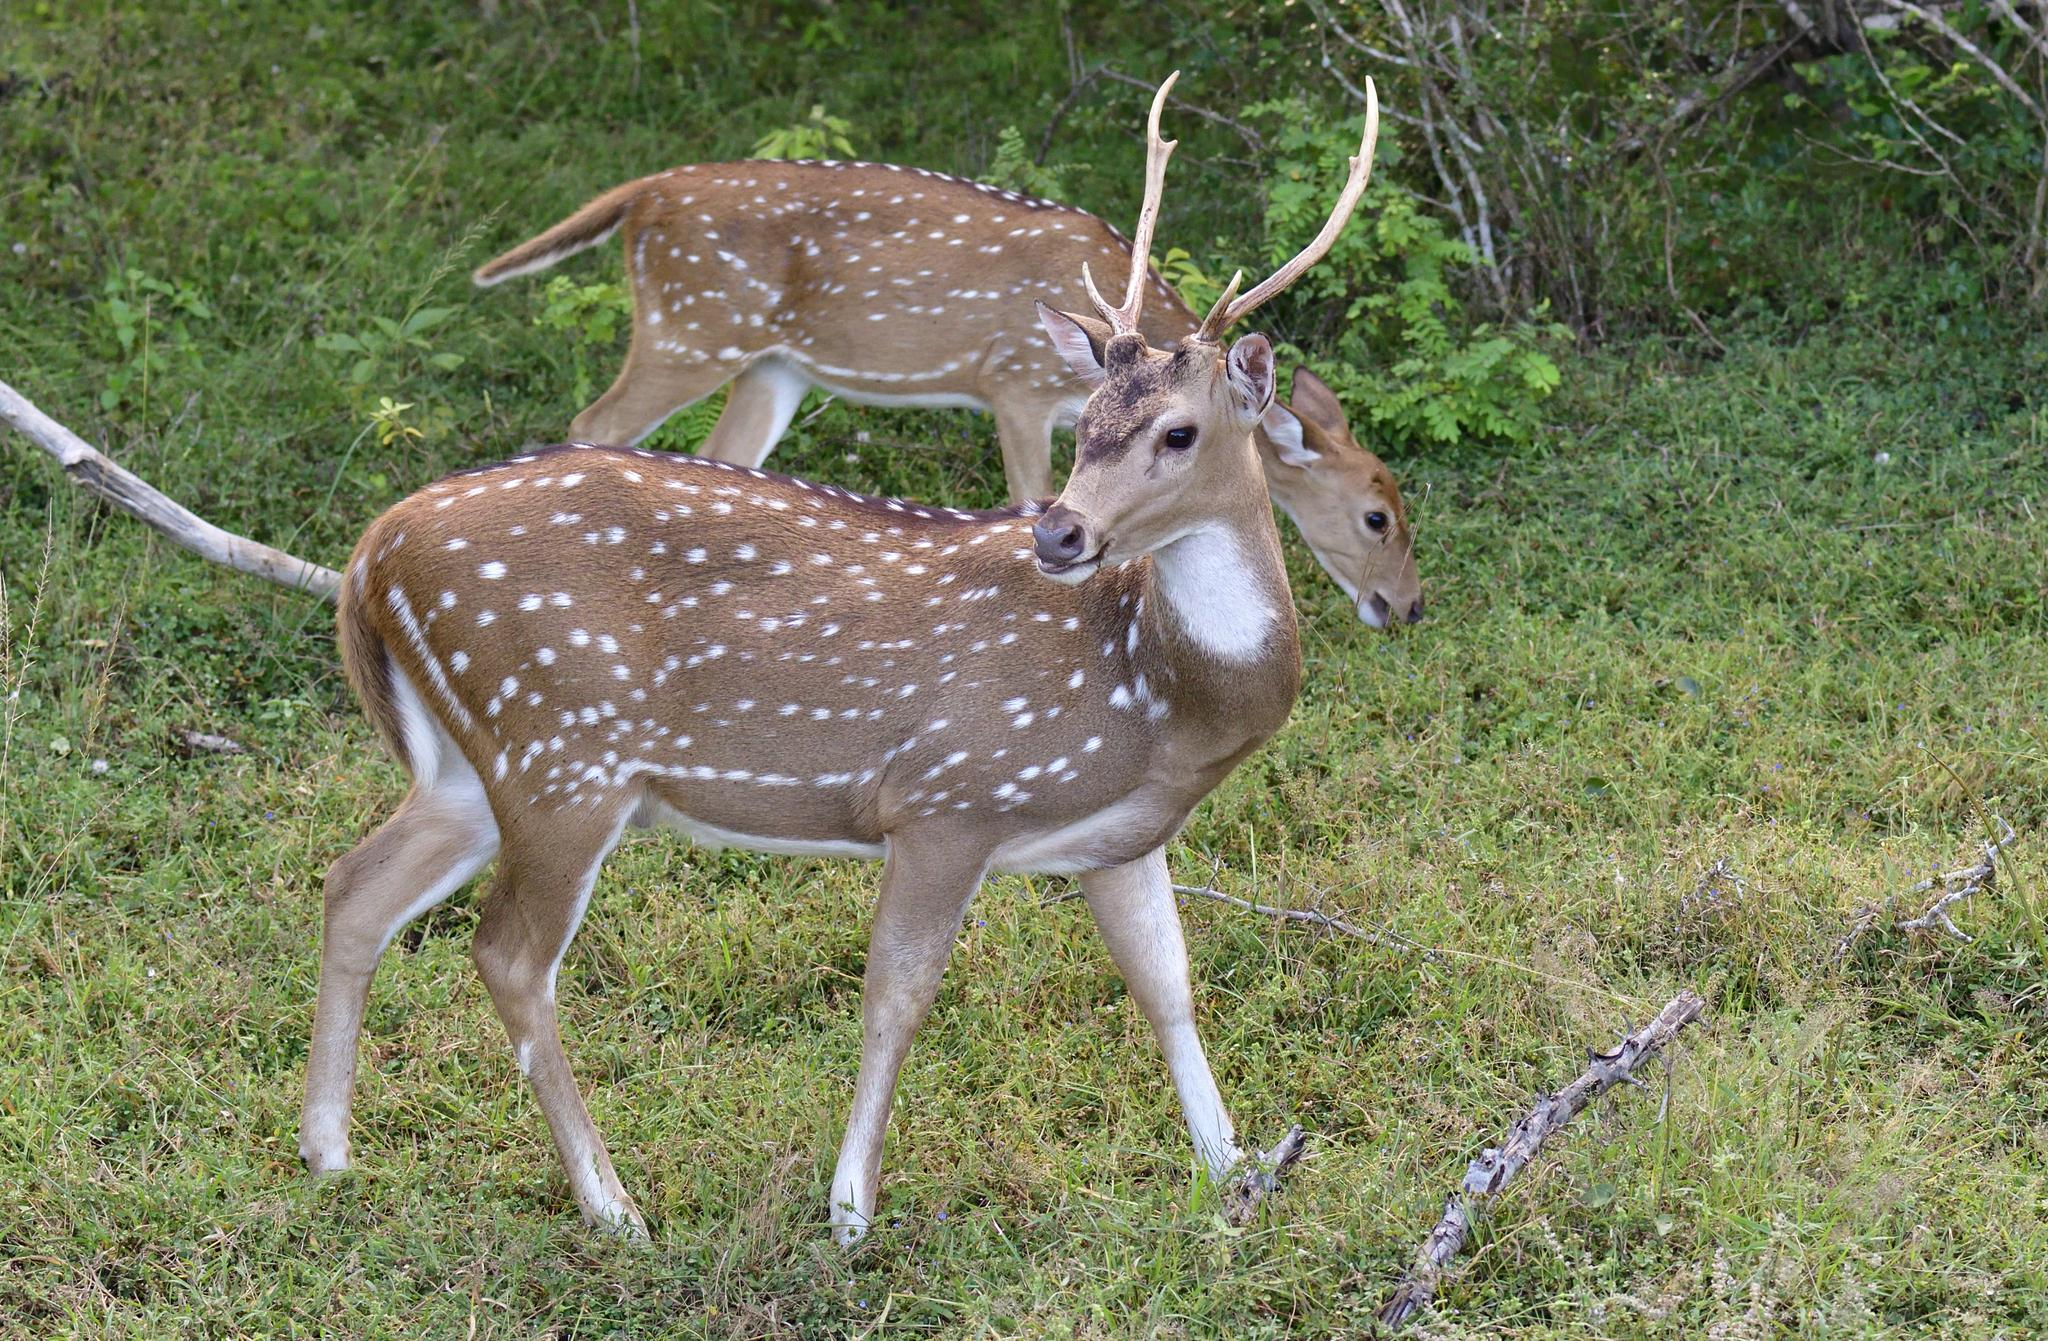Deer: (298, 75, 1376, 1244), (476, 159, 1131, 501)
